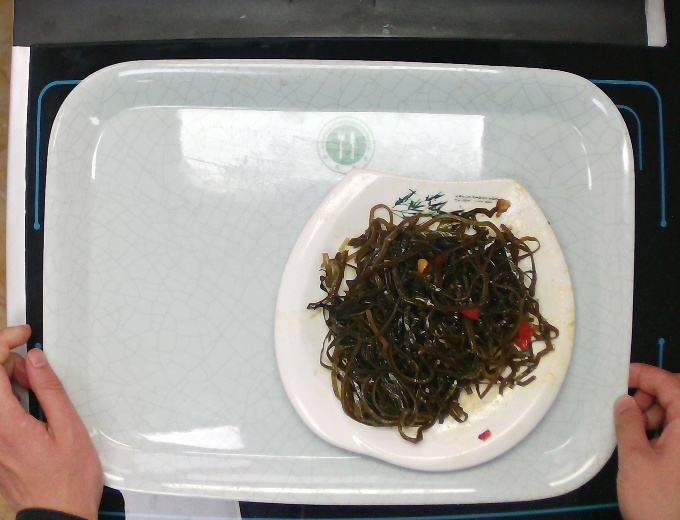JYsf-Mian_Pan: (270, 167, 577, 474)
